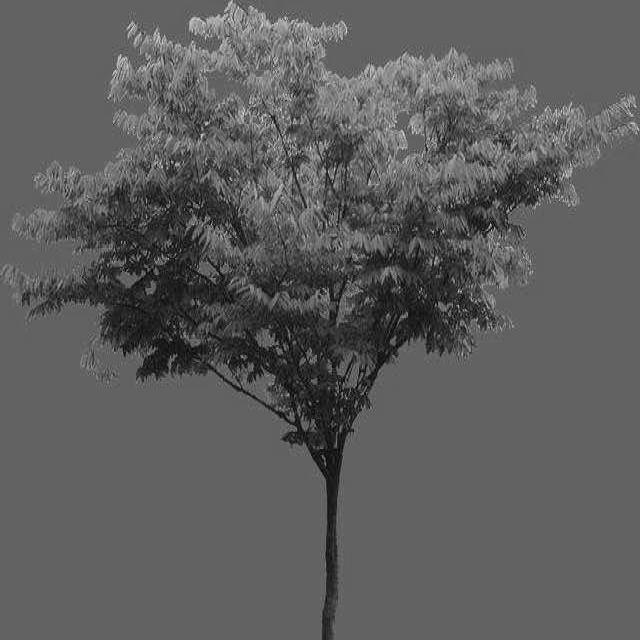Tree: (2, 4, 638, 637)
